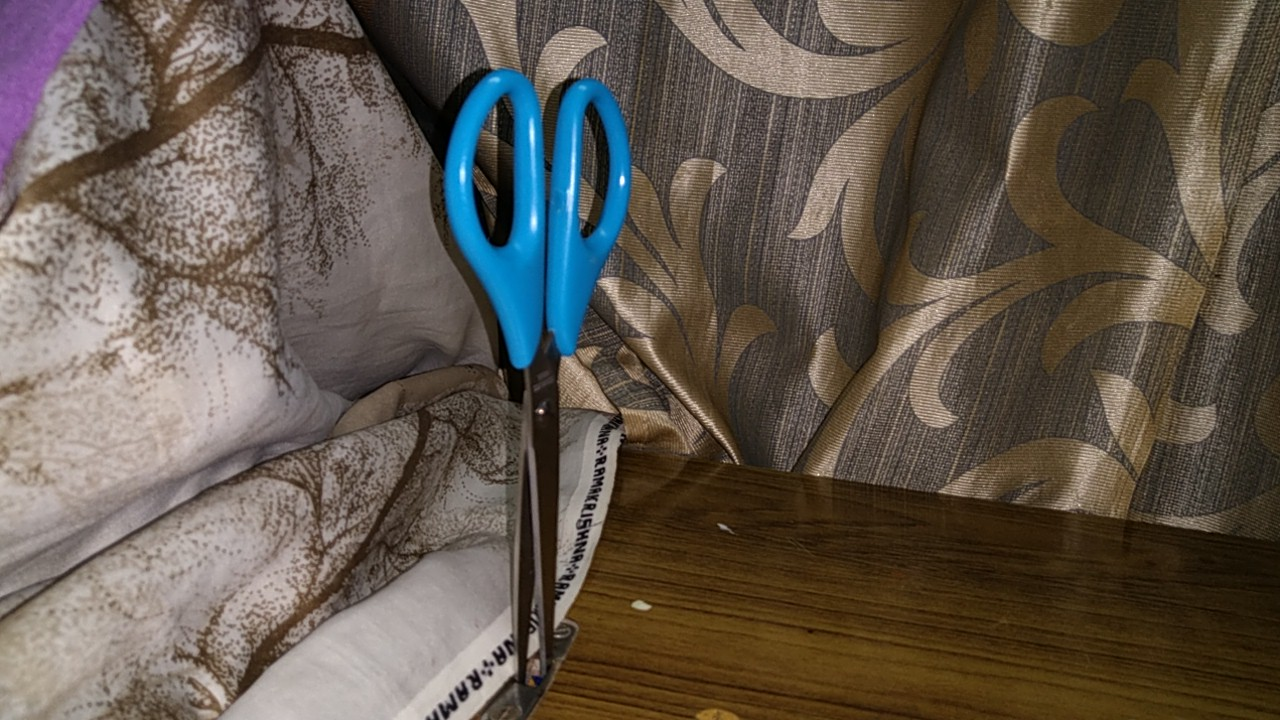scissor: (420, 55, 640, 720)
